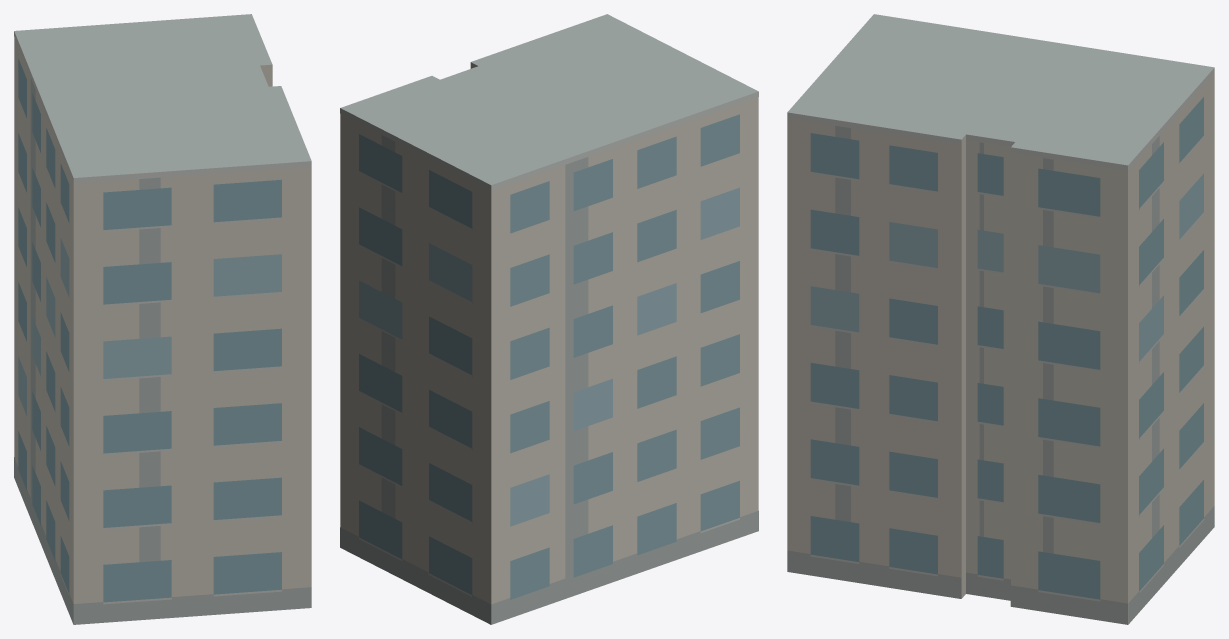
Rendered from survey-upis-32889281.glb.
3 renders of one model, left to right at view 1: azimuth 30°, elevation 25°; view 2: azimuth 150°, elevation 25°; view 3: azimuth 270°, elevation 25°, orthographic. The views are drawn at different scales.
Parts seen in each view (by area): view 1: survey-upis-32889281.tmp; view 2: survey-upis-32889281.tmp; view 3: survey-upis-32889281.tmp.
Boxes of the visible parts, x1,y1,x2,y2 form: survey-upis-32889281.tmp: (14, 14, 311, 624); survey-upis-32889281.tmp: (340, 14, 758, 624); survey-upis-32889281.tmp: (787, 14, 1214, 624).
Bounding box in the file's own units: 13.65 × 19.3 × 16.28.
